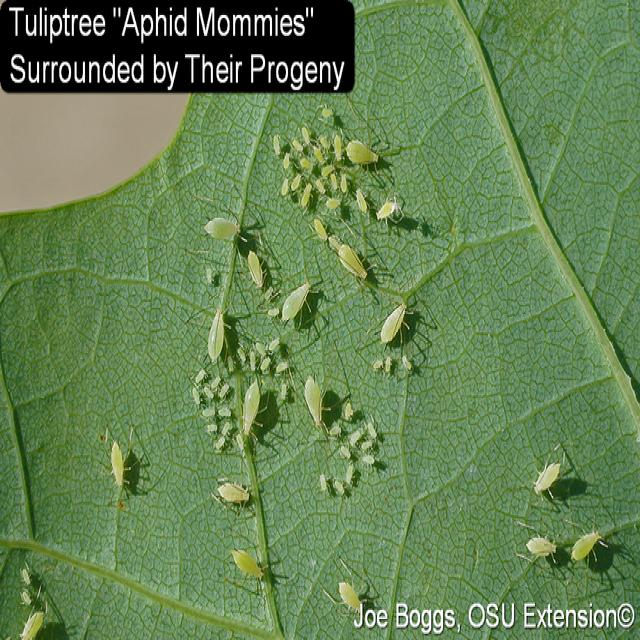Aphid-Grouped-: (186, 202, 419, 507), (266, 102, 427, 304)
Aphid-Grown-: (270, 266, 332, 336), (506, 509, 562, 572), (218, 532, 272, 597), (98, 420, 142, 497), (559, 513, 612, 576), (206, 461, 254, 522), (198, 203, 252, 257), (292, 362, 334, 429), (372, 301, 426, 352), (332, 226, 376, 288), (238, 369, 272, 444), (326, 564, 369, 622), (345, 124, 386, 183), (236, 239, 274, 301), (199, 301, 232, 368), (534, 446, 565, 505)
